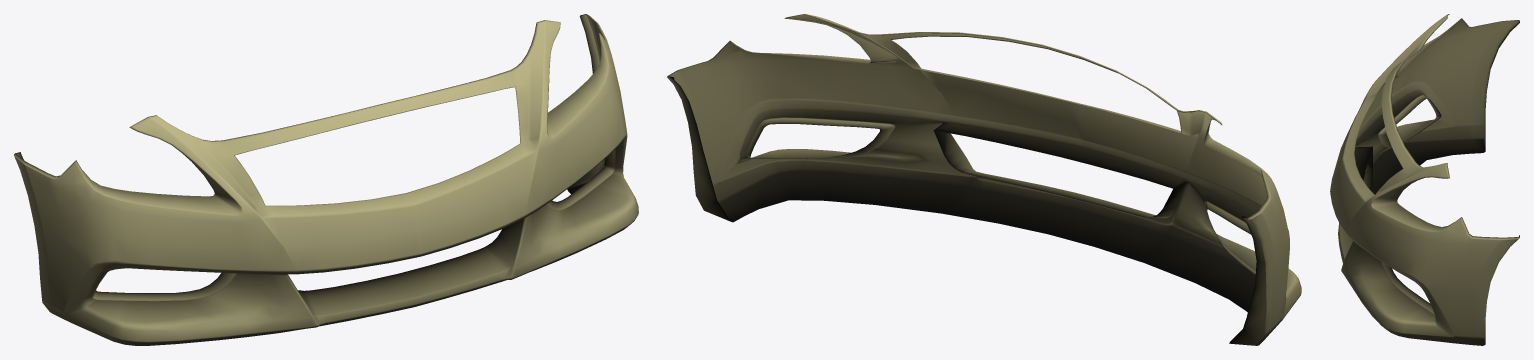
File: G37_FB_03_Duco.fbx
3 renders of one model, left to right at view 1: azimuth 30°, elevation 25°; view 2: azimuth 150°, elevation 25°; view 3: azimuth 270°, elevation 25°, orthographic. The views are drawn at different scales.
Parts seen in each view (by area): view 1: G37_FB_03_Duco; view 2: G37_FB_03_Duco; view 3: G37_FB_03_Duco.
Boxes of the visible parts, x1,y1,x2,y2 form: G37_FB_03_Duco: [14, 14, 638, 345]; G37_FB_03_Duco: [667, 14, 1301, 345]; G37_FB_03_Duco: [1330, 14, 1519, 345].
Bounding box in the file's own units: 182 × 60.28 × 66.63.
